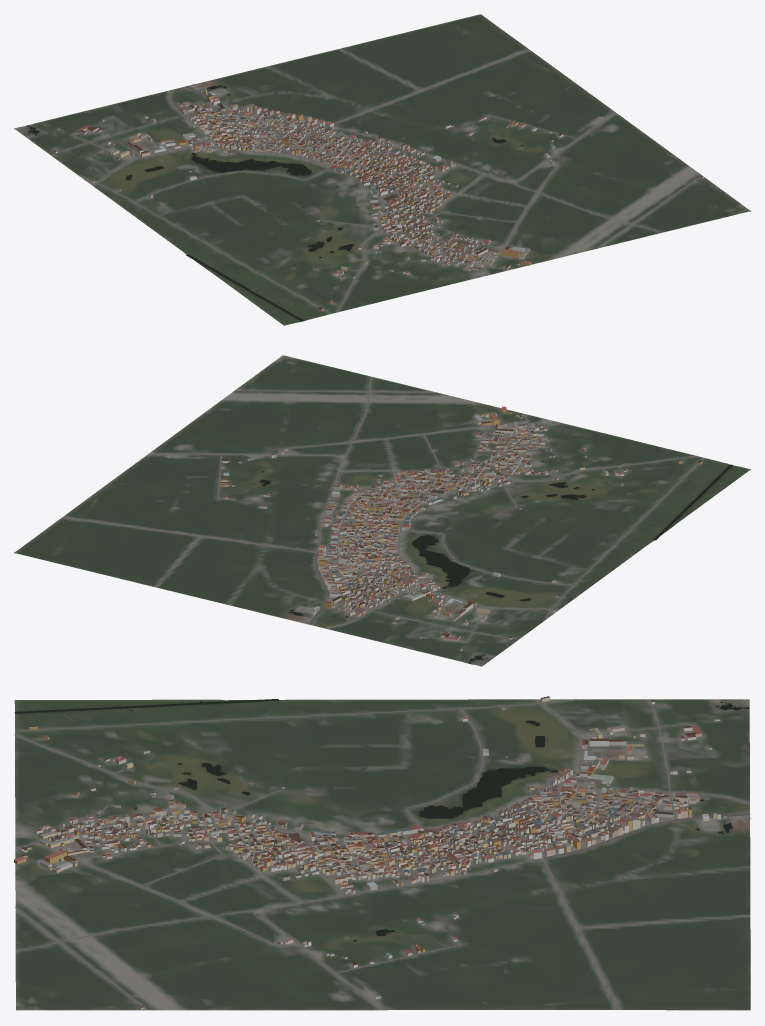
3 renders of one model, top to bottom at view 1: azimuth 30°, elevation 25°; view 2: azimuth 150°, elevation 25°; view 3: azimuth 270°, elevation 25°, orthographic. The views are drawn at different scales.
Visible parts, largest first — view 1: ground, buildings, roads, water; view 2: ground, buildings, roads, water; view 3: ground, buildings, roads, water.
Part boxes in pixels (x1,y1,x2,y2): ground: (14, 14, 750, 325); buildings: (54, 88, 703, 310); roads: (52, 49, 702, 313); water: (26, 85, 523, 321); ground: (14, 355, 750, 666); buildings: (167, 388, 702, 650); roads: (62, 376, 704, 641); water: (259, 461, 732, 663); ground: (14, 699, 750, 1010); buildings: (14, 696, 726, 1009); roads: (14, 699, 750, 1010); water: (14, 699, 748, 941).
Bounding box in the file's own units: 1409 × 26.21 × 1406.
